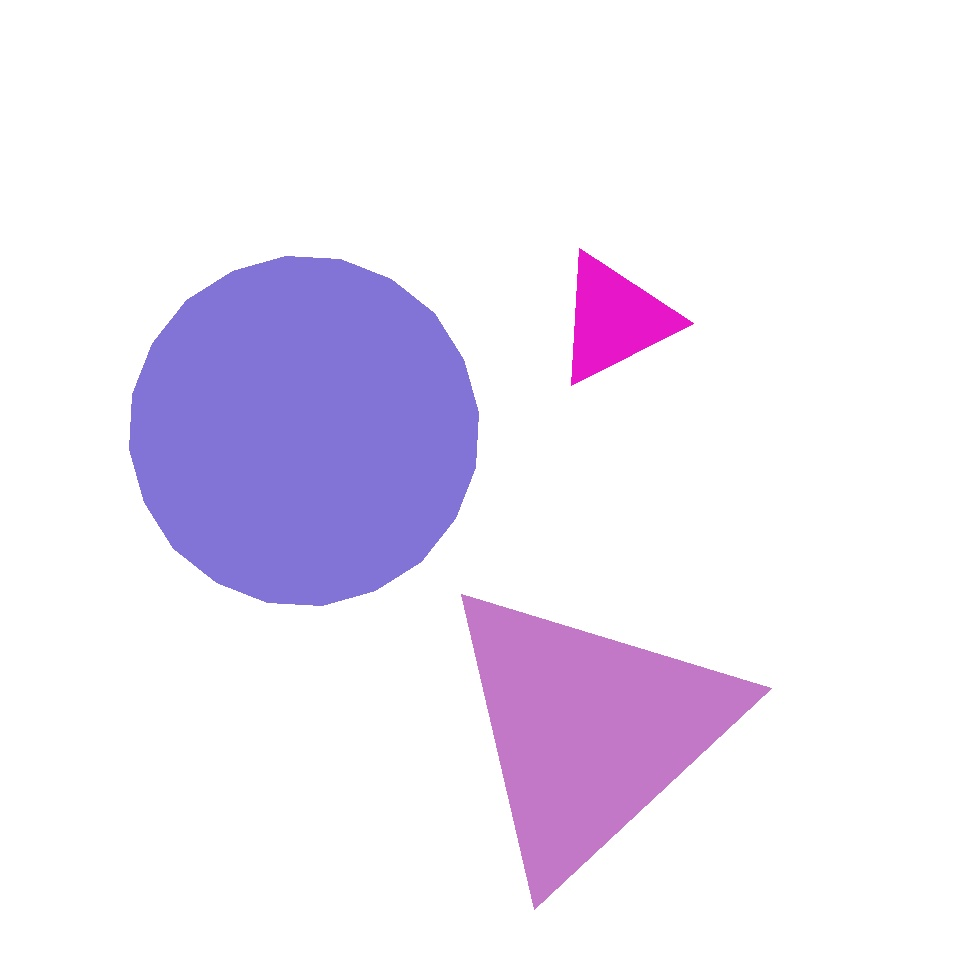circle: (434, 574, 744, 888), (554, 250, 676, 388)
square: (452, 195, 792, 534), (612, 114, 730, 230)
triangle: (130, 256, 478, 606), (750, 528, 912, 690)
